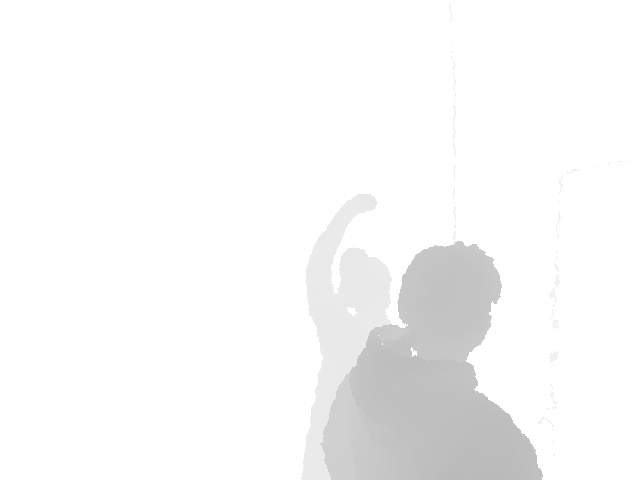hand: (347, 194, 377, 216)
head: (396, 242, 502, 364), (338, 246, 392, 326)
person: (319, 239, 545, 480), (299, 195, 398, 480)
